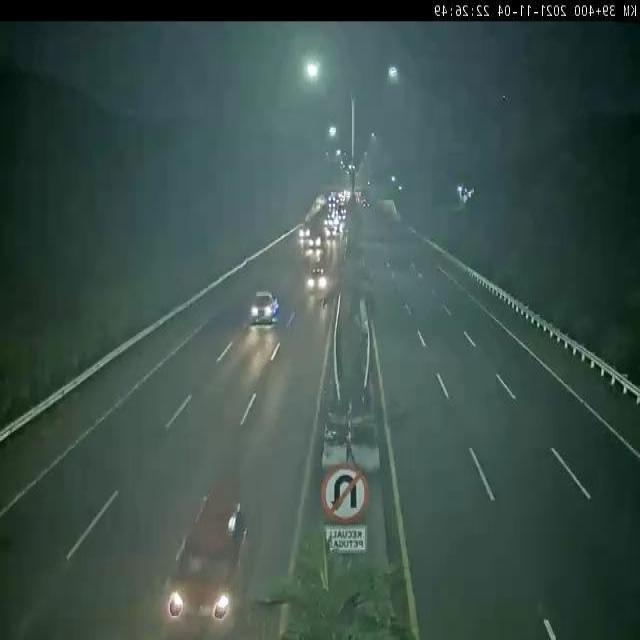Car: (147, 470, 279, 640), (247, 281, 288, 329), (305, 264, 332, 298), (303, 230, 324, 255)
